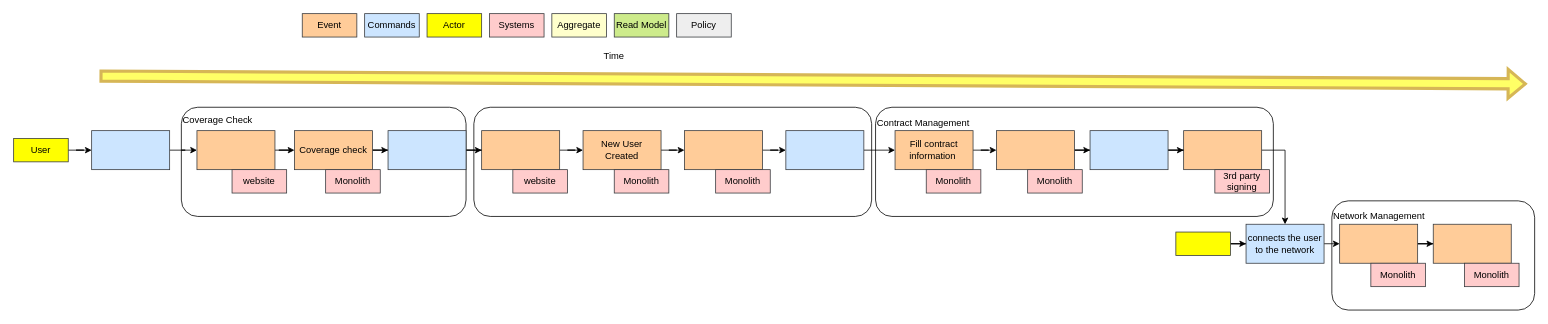
This 1548x324 diagram has some shape labels left out. Each missing label, with the box of its shape:
Accepts contract: (1089, 130, 1168, 170)
Account information Introduced: (481, 130, 560, 170)
Address information introduced: (196, 130, 275, 170)
contact digitally signed: (1183, 130, 1262, 170)
contact email sent: (996, 130, 1074, 170)
Hardware sent: (1432, 223, 1511, 263)
Line enabled: (1339, 223, 1418, 263)
Navigates to register page: (91, 130, 170, 170)
Technitian: (1175, 231, 1230, 255)
User has coverage: (387, 130, 466, 170)
User Management: (473, 106, 872, 216)
Validates Account: (785, 130, 864, 170)
Verify email sent: (684, 130, 762, 170)
